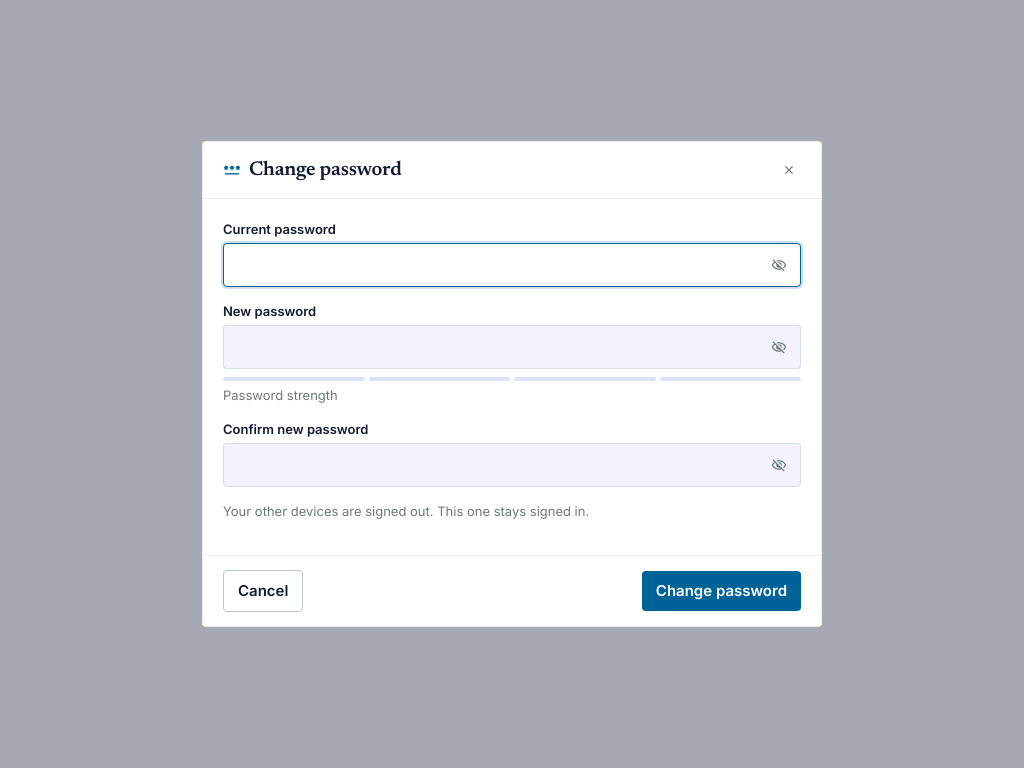
ChangePasswordModal › puts a wrong current password and a weak new one on their fields
Type "wrong-password" into the password field labelled "Current password".
click(512, 265); type("wrong-password")  # box [223,243,801,287]
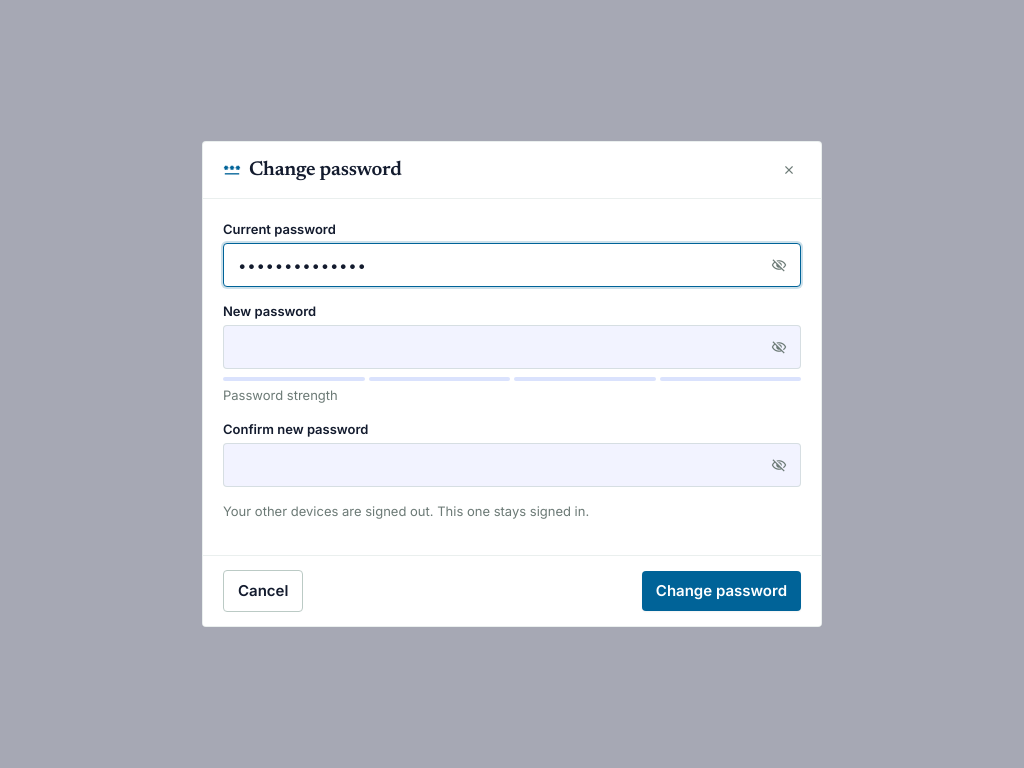
Type "password1234" into the password field labelled "New password".
click(512, 347); type("password1234")  # box [223,325,801,369]
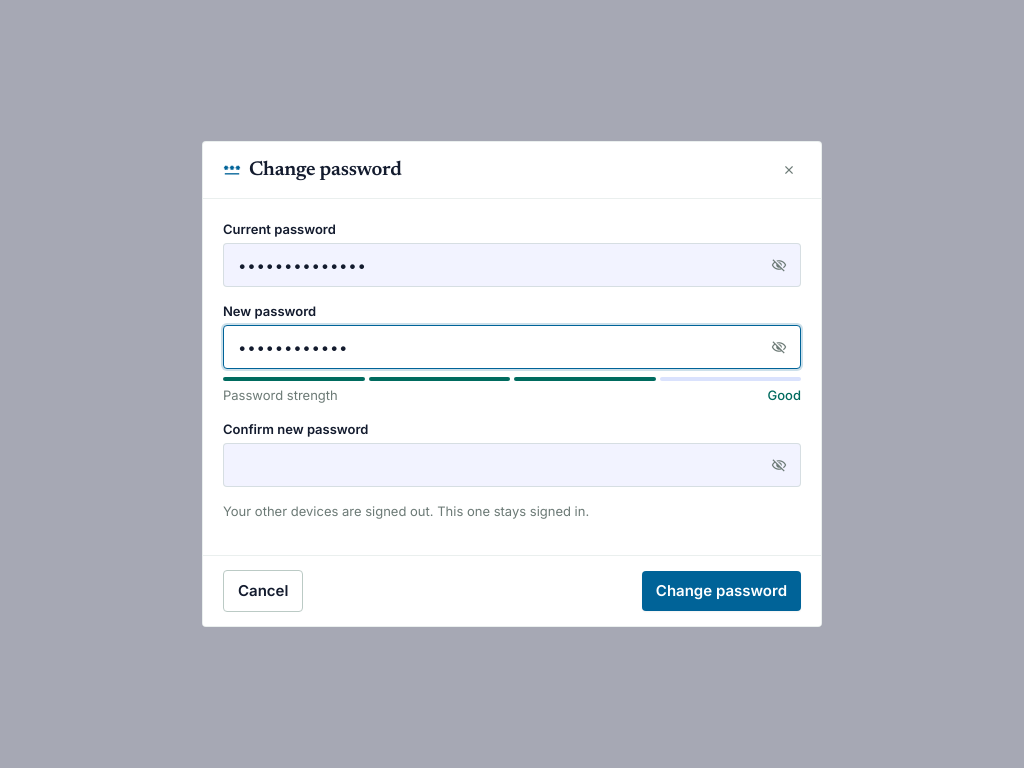
Type "password1234" into the password field labelled "Confirm new password".
click(512, 465); type("password1234")  # box [223,443,801,487]
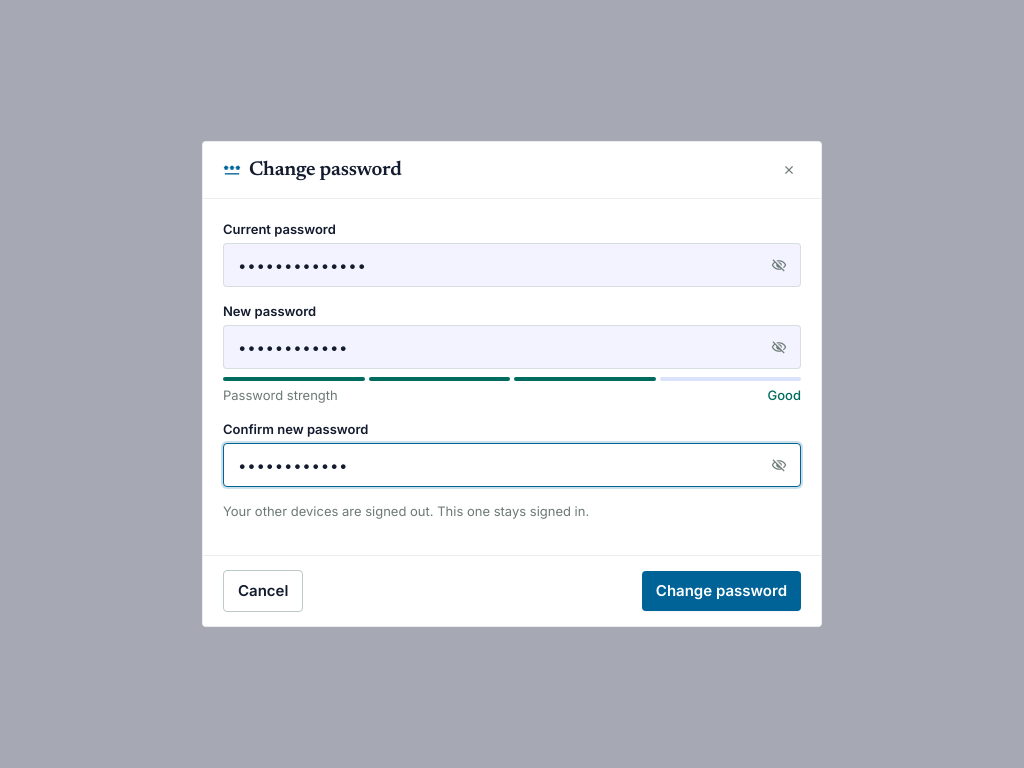
Click the button "Change password".
click(721, 591)  # box [642,571,801,611]
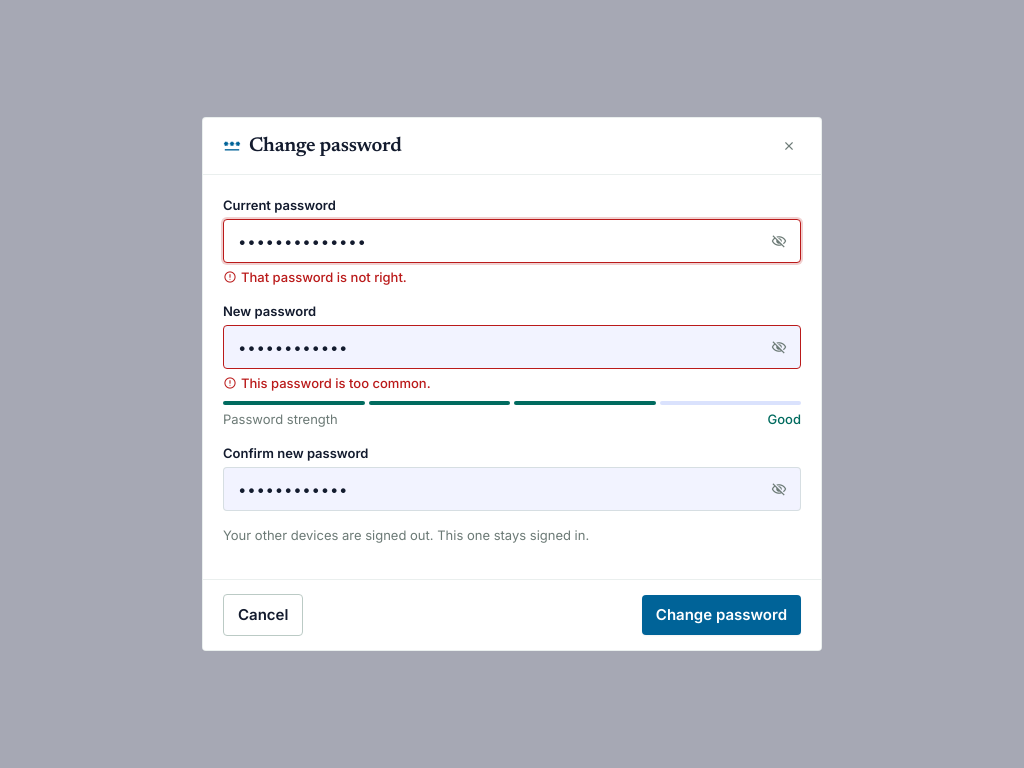
Check: the text "That password is not right." is shown, box [223,269,407,285]
Check: the text "This password is too common." is shown, box [223,375,431,391]
